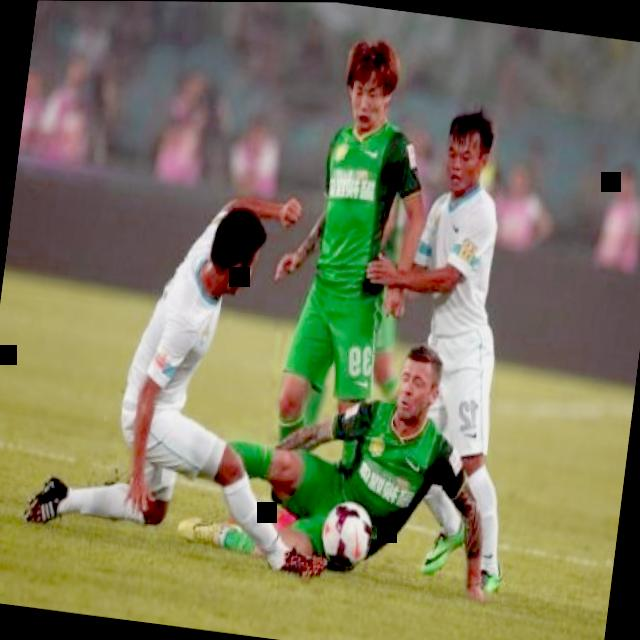Fall-Detected: (9, 152, 356, 579)
